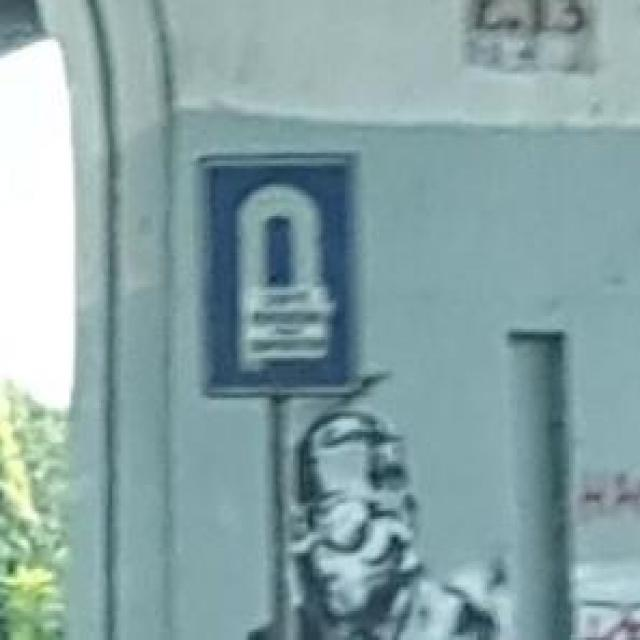traffic sign: (201, 153, 354, 396)
